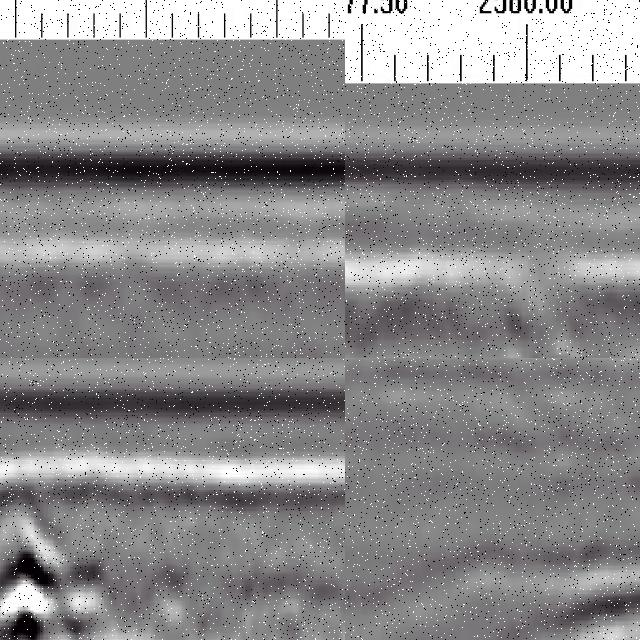loose: (485, 523, 640, 640), (1, 515, 137, 640)
